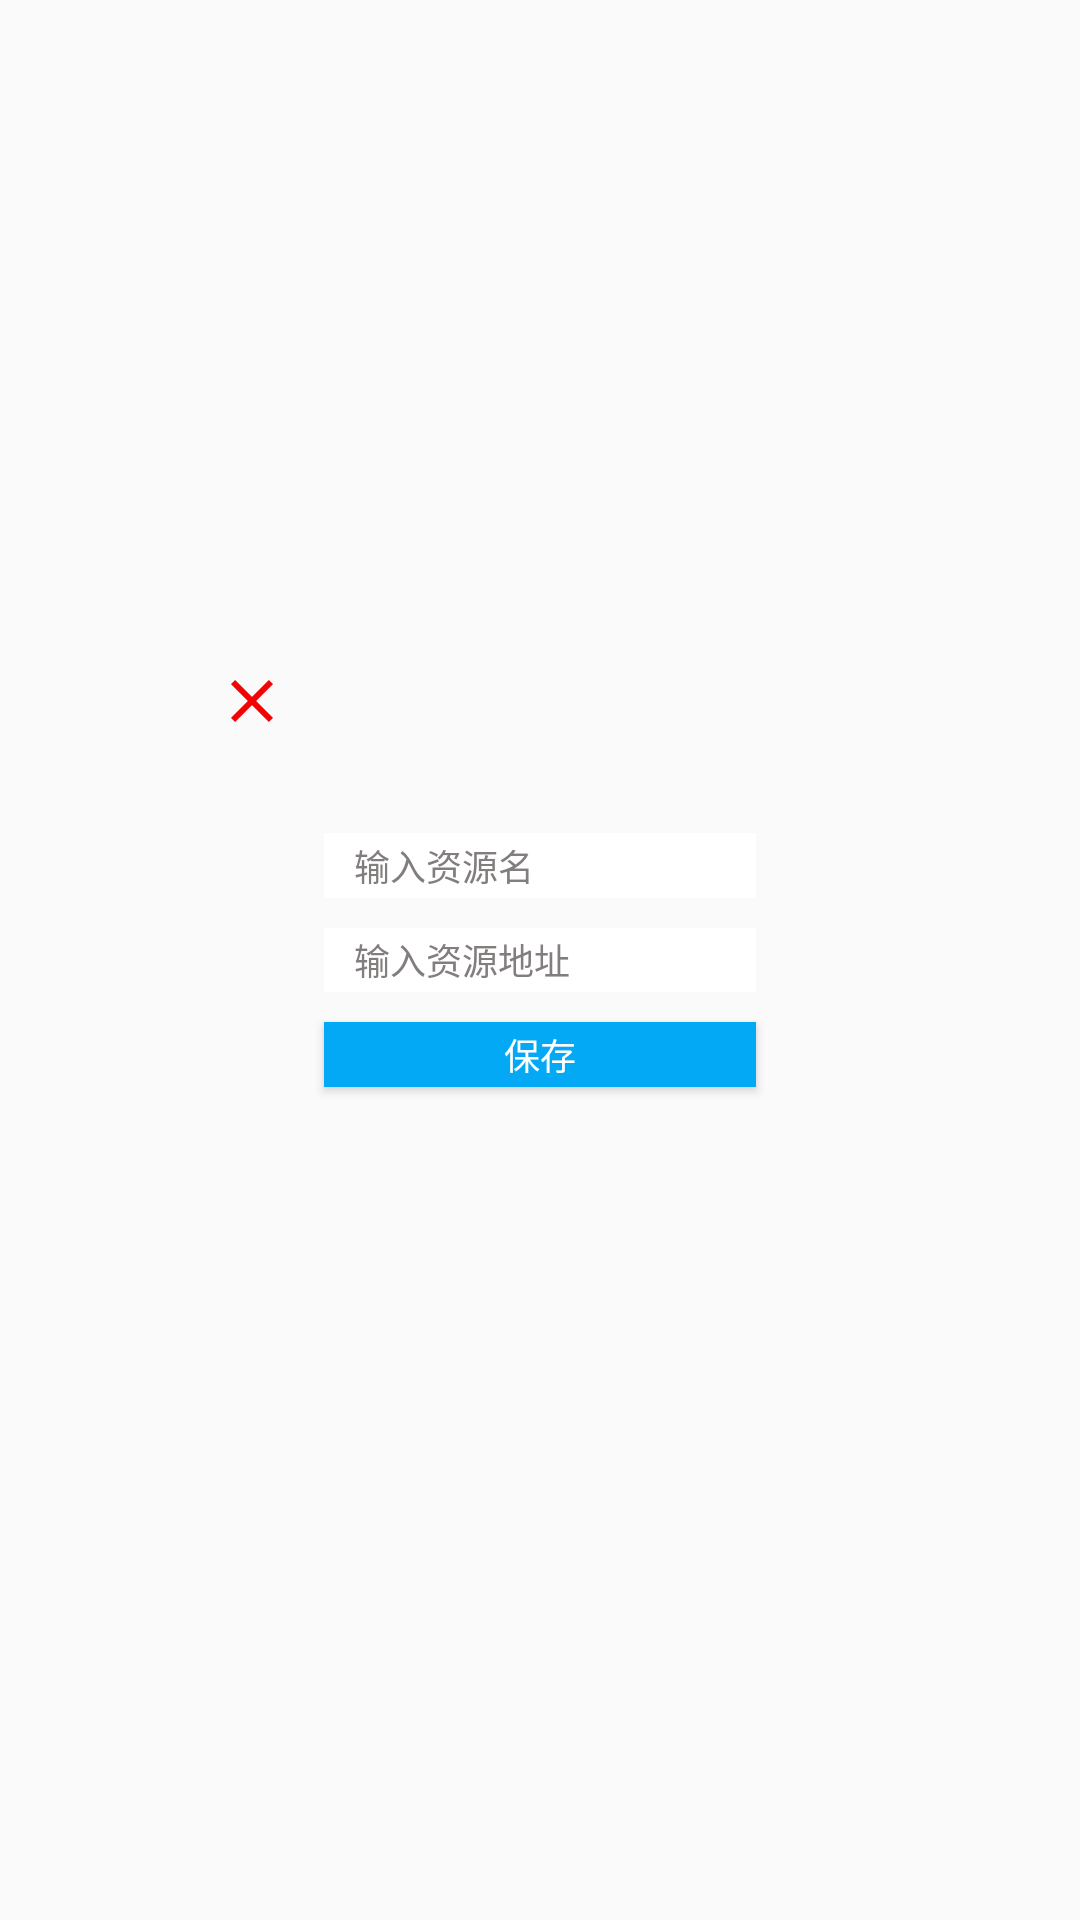

Named icons in this screenshot (1080*1920) and their centers, (x=x, y=y):
close: (x=252, y=701)
